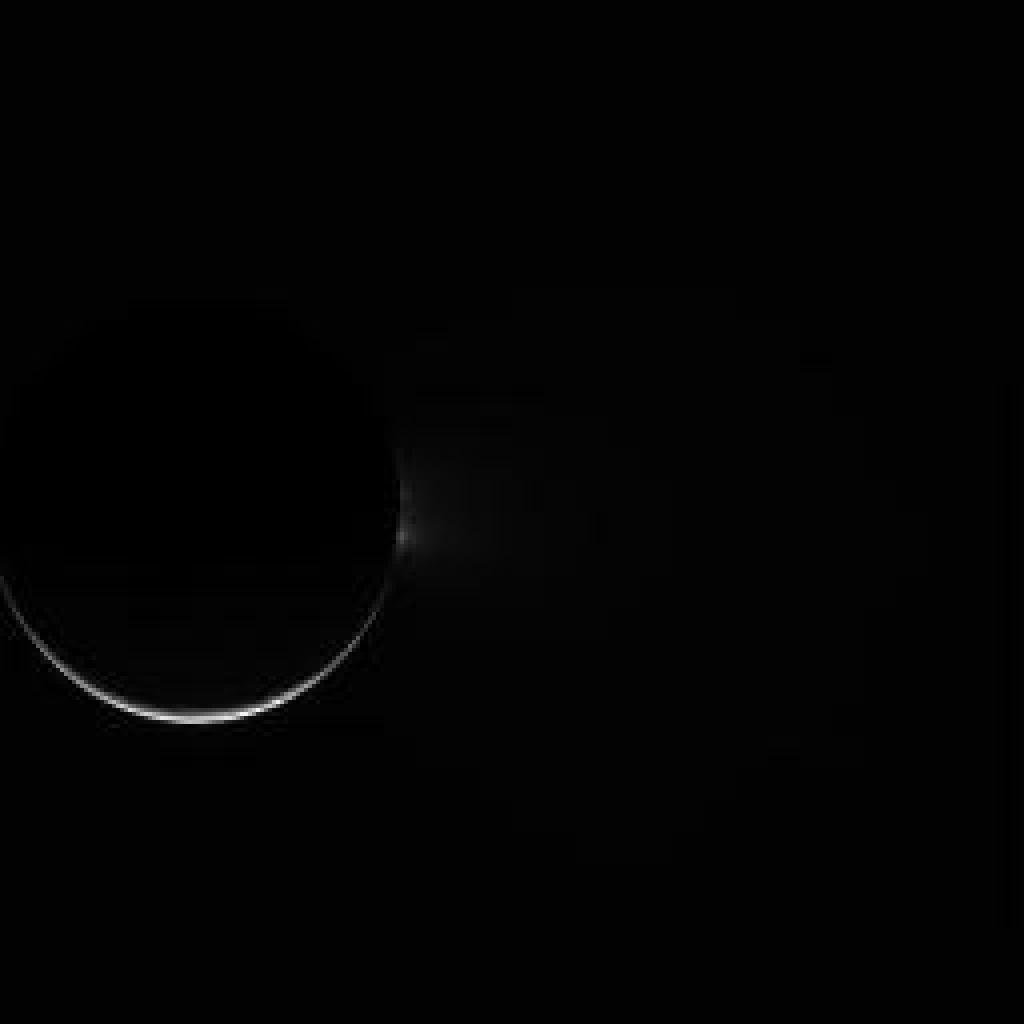plumes: (398, 468, 487, 557)
